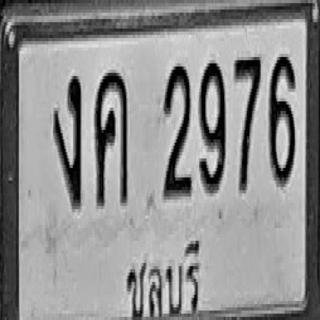A04: (94, 70, 128, 206)
A07: (53, 73, 81, 206)
N02: (162, 64, 191, 196)
N06: (268, 54, 295, 184)
N07: (234, 54, 260, 190)
N09: (199, 60, 226, 193)
P13: (120, 228, 204, 320)
